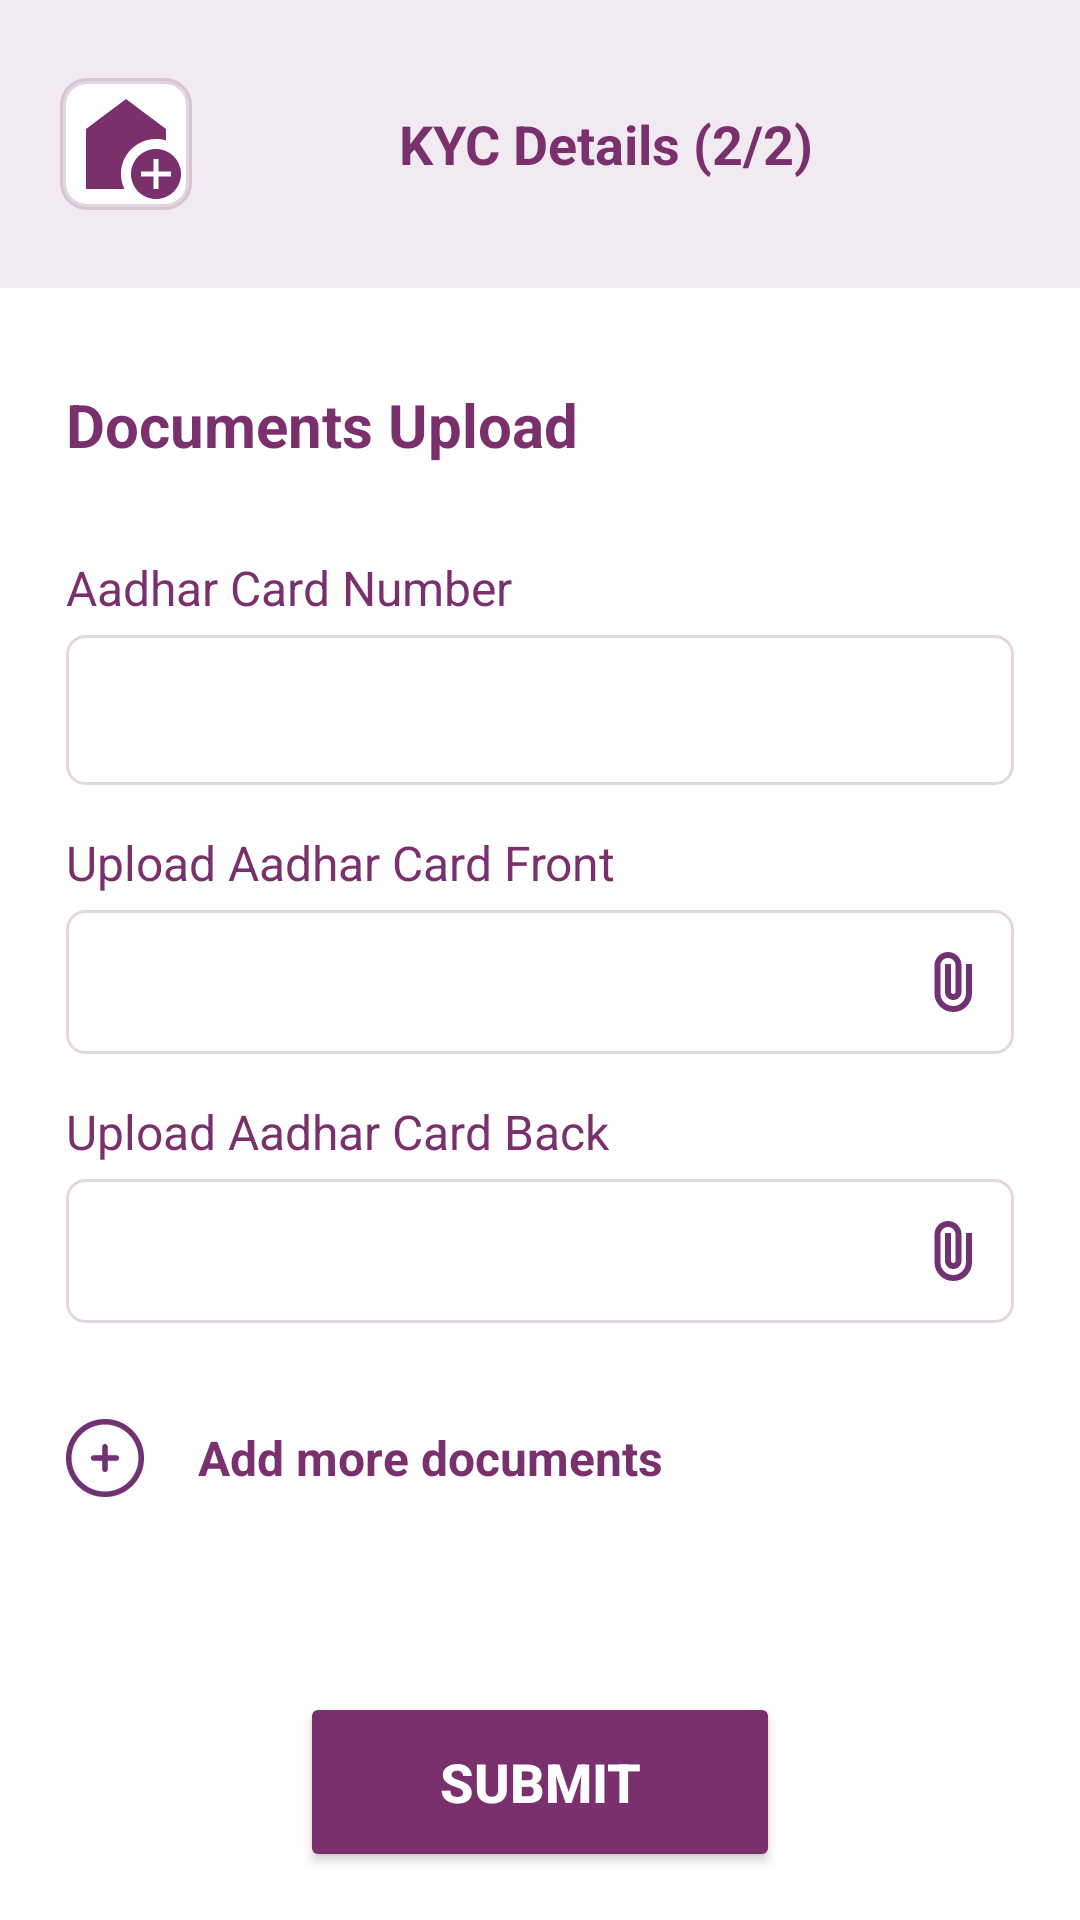

Where to tap for icons on this 1080w x 1920h app screen, as (x=x, y=y):
add home: (x=126, y=144)
plus: (x=105, y=1458)
